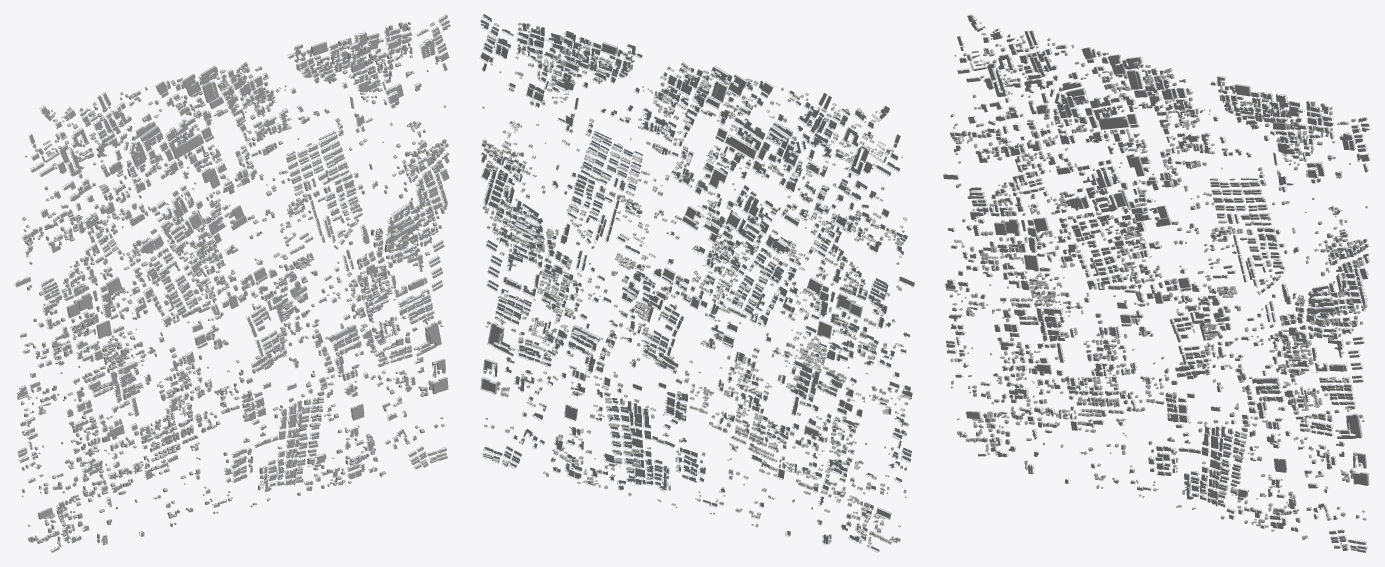
File: buildings_1_3.obj
The picture shows the model from 3 angles, left to right: view 1: azimuth 30°, elevation 25°; view 2: azimuth 150°, elevation 25°; view 3: azimuth 330°, elevation 25°; orthographic projection.
Bounding box in the file's own units: 2042 × 2037 × 27.04.
Materials: 5 (5 with a texture image).
